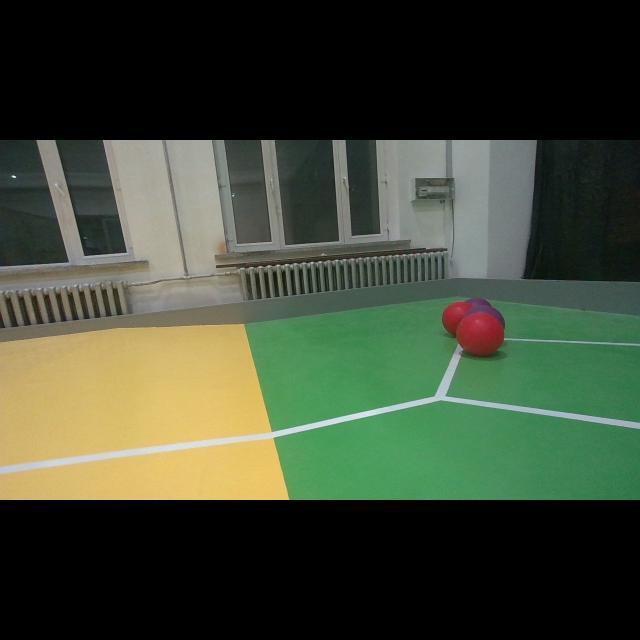R: (456, 312, 504, 356), (442, 302, 476, 338)
